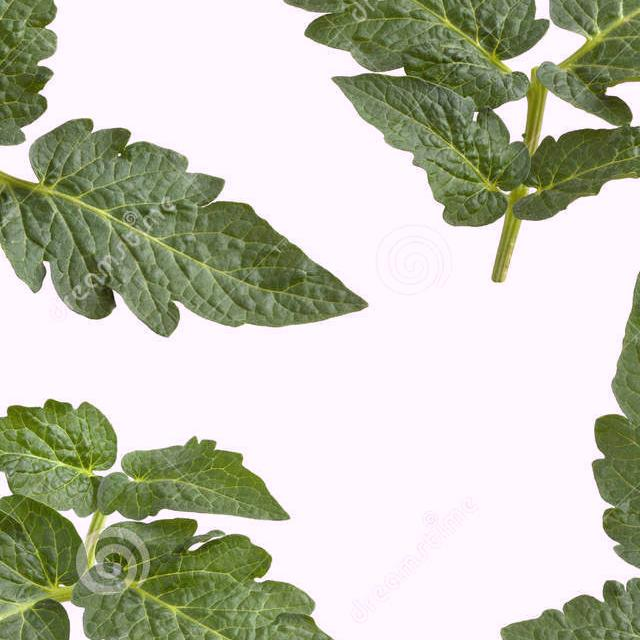Tomato leaf: (0, 109, 400, 370), (88, 506, 415, 640), (208, 0, 544, 116), (588, 225, 640, 640), (0, 474, 87, 640), (0, 0, 90, 157), (544, 0, 640, 109)
